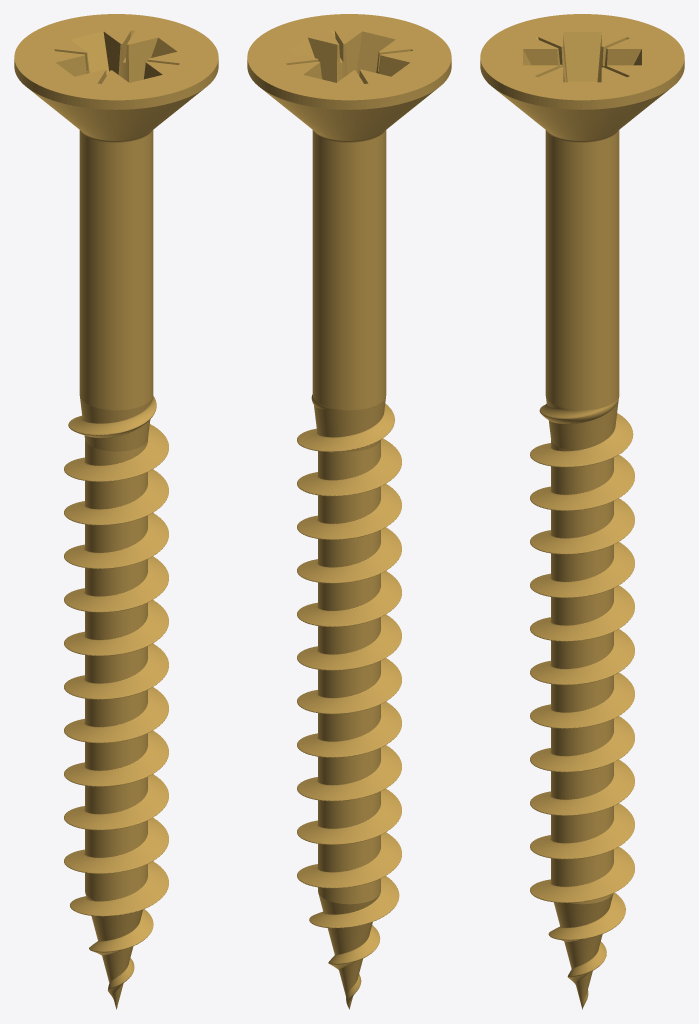
File: model_full.glb
3 renders of one model, left to right at view 1: azimuth 30°, elevation 25°; view 2: azimuth 150°, elevation 25°; view 3: azimuth 270°, elevation 25°, orthographic.
Visible parts, largest first — view 1: geometry_0; view 2: geometry_0; view 3: geometry_0.
Part boxes in pixels (x1=…): geometry_0: x1=14, y1=14, x2=218, y2=1009; geometry_0: x1=247, y1=14, x2=451, y2=1009; geometry_0: x1=480, y1=14, x2=684, y2=1009.
Bounding box in the file's own units: 0.0068 × 0.035 × 0.0068.
